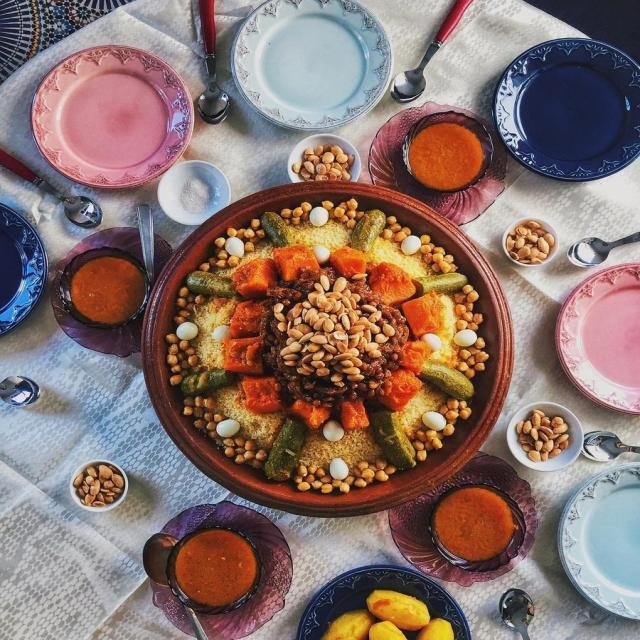Couscous: (164, 195, 491, 503)
